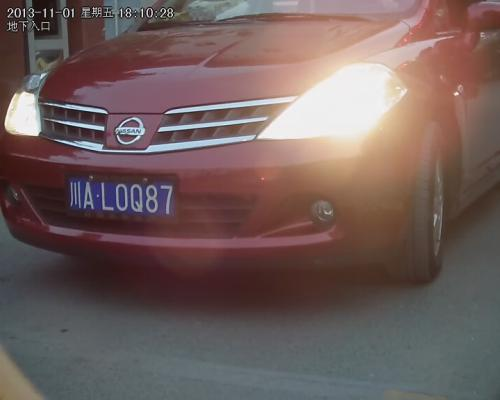Carplate: (61, 169, 182, 224)
